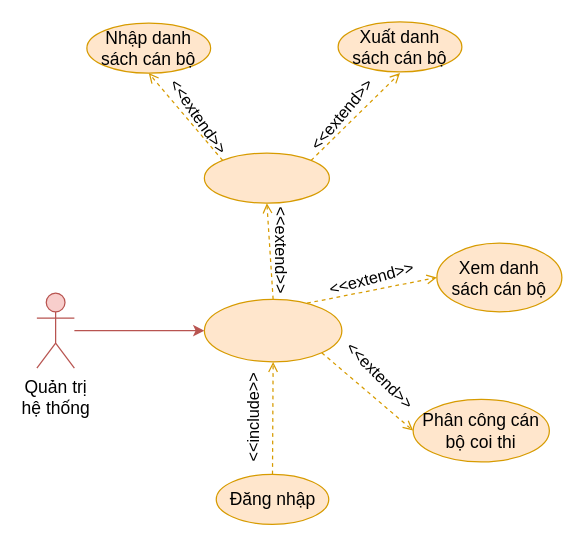
This 584x546 diagram has some shape labels left out. Here are the shapes that lost their labels. From the top down, the centre of each, then its label:
At point 266,177: "quản lý nhập xuất".
At point 272,330: "Quản lý cán bộ coi thi".
